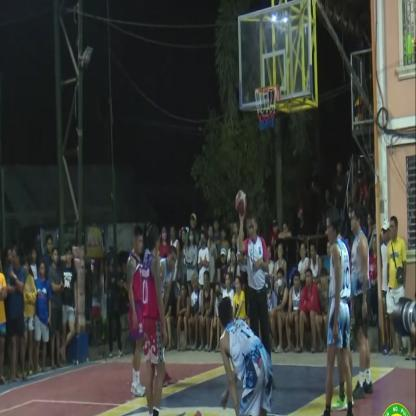basketball: (234, 185, 247, 217)
rim: (253, 82, 279, 136)
